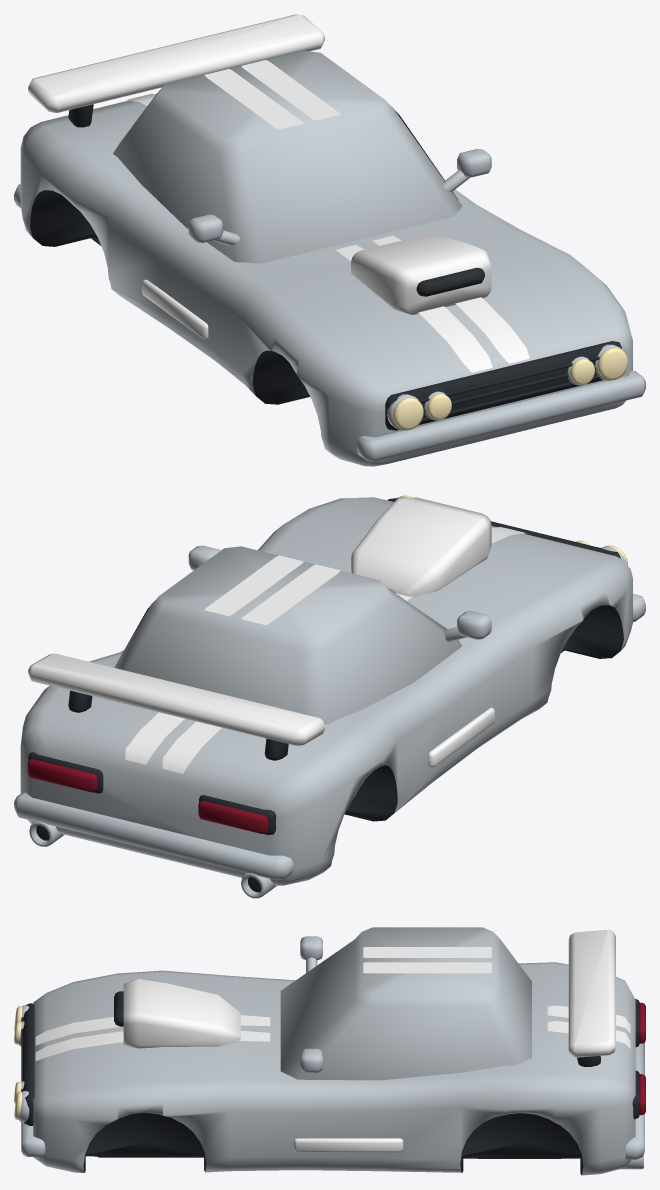
The model's file is auto-muscle.glb.
3 renders of one model, top to bottom at view 1: azimuth 30°, elevation 25°; view 2: azimuth 150°, elevation 25°; view 3: azimuth 270°, elevation 25°, orthographic. The views are drawn at different scales.
Parts seen in each view (by area): view 1: auto-muscle; view 2: auto-muscle; view 3: auto-muscle.
Part boxes in pixels (bbox=[...]): auto-muscle: bbox=[14, 14, 645, 466]; auto-muscle: bbox=[14, 495, 645, 898]; auto-muscle: bbox=[14, 927, 645, 1175].
Size of the model in its own units: 2.05 by 1.21 by 4.16.
